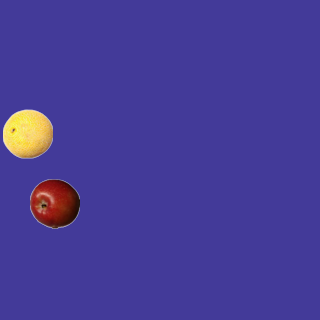Apple Braeburn: (29, 178, 79, 228)
Cantaloupe 1: (2, 108, 52, 158)
